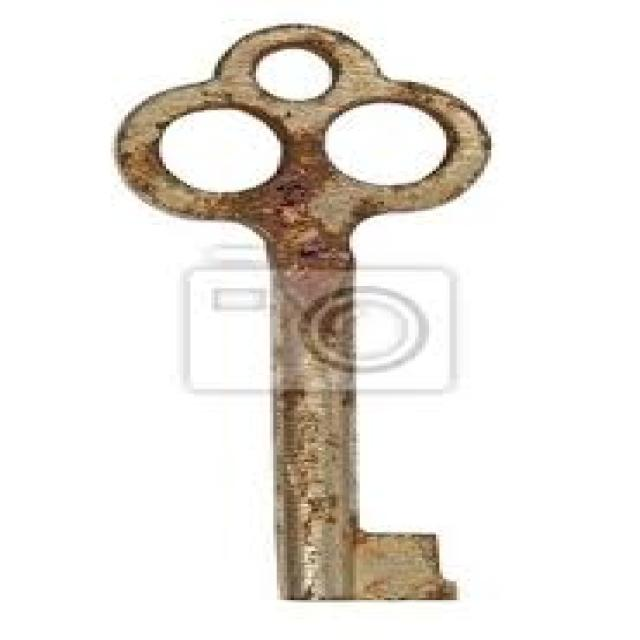key: (66, 11, 605, 624)
